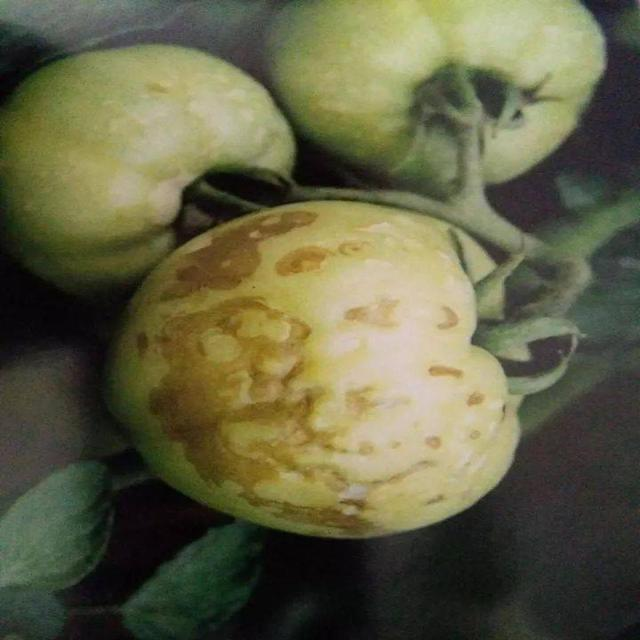Spotted wilt Virus Fruit: (74, 131, 347, 360)
